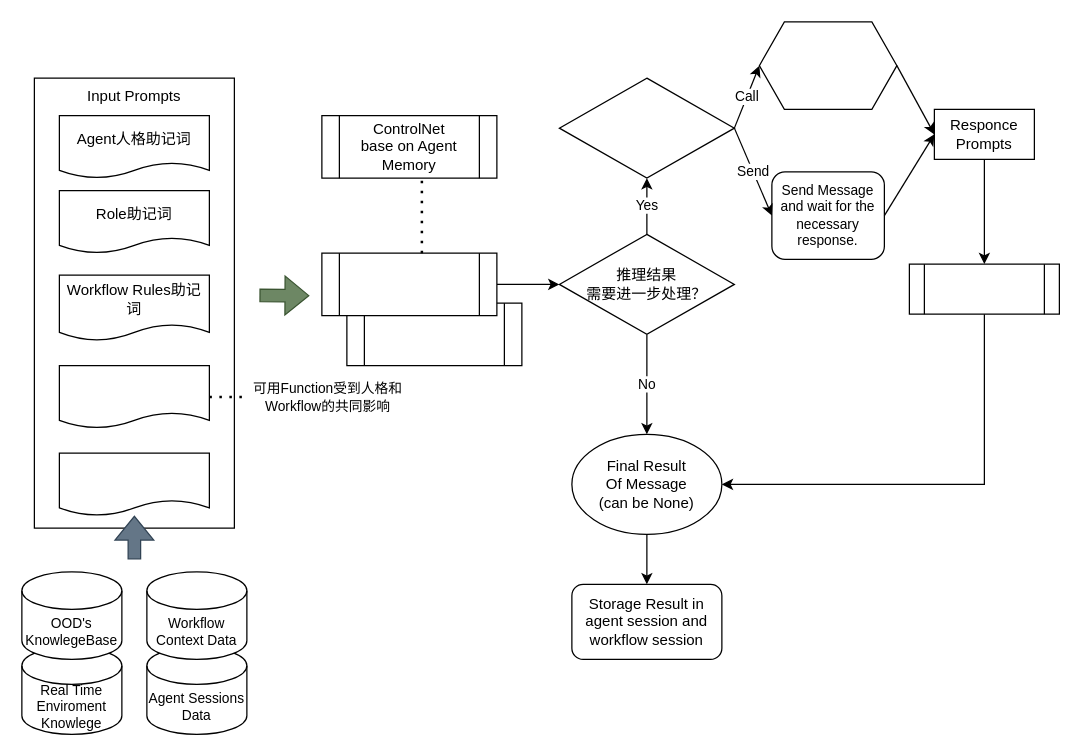
Some shapes in this 1081 by 756 pixel diagram are drawn without their labels. The centre of each missing label's shape, as x and y in pixels:
"Call Funstion or send message?" belongs at [646,127].
"Invoke the function and wait for the necessary response." belongs at [827,65].
"LLM (Common Sence)" belongs at [409,284].
"LLM Competion" belongs at [983,288].
"Small LLM, Train With Personal Data" belongs at [434,334].
"可用Function助记词" belongs at [133,396].
"访问Knowlege构造助记词" belongs at [133,484].
